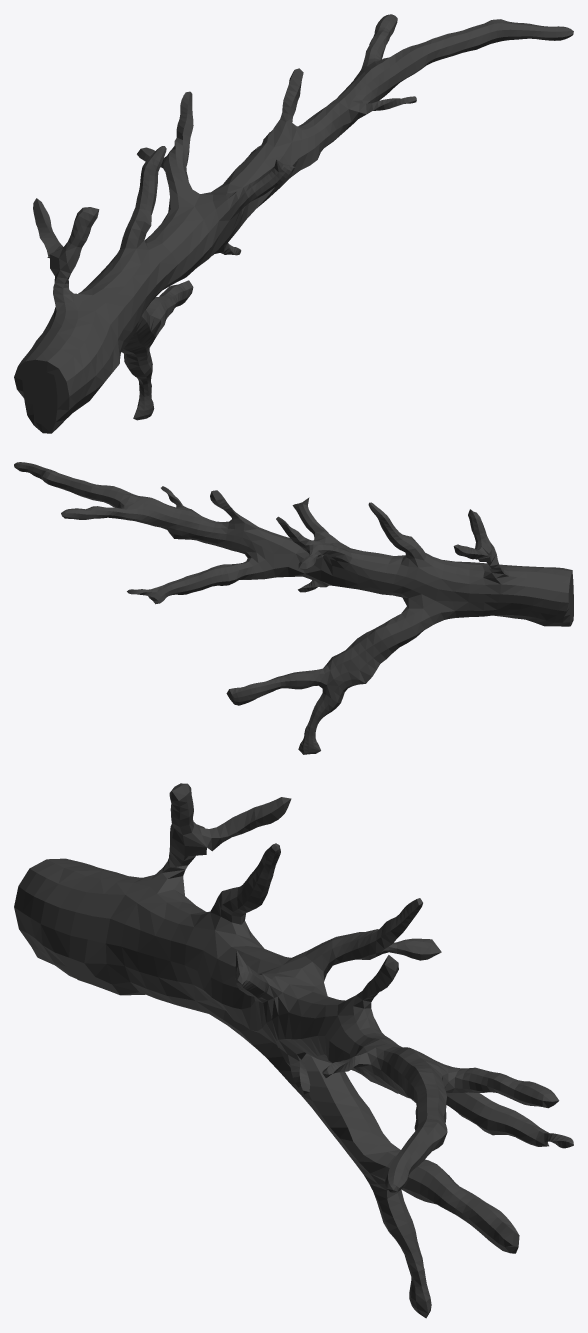
Rendered from Right_caudal_lobe_bronchus.glb.
The picture shows the model from 3 angles, top to bottom: view 1: azimuth 30°, elevation 25°; view 2: azimuth 150°, elevation 25°; view 3: azimuth 270°, elevation 25°; orthographic projection. The views are drawn at different scales.
Parts seen in each view (by area): view 1: Right_caudal_lobe_bronchus; view 2: Right_caudal_lobe_bronchus; view 3: Right_caudal_lobe_bronchus.
Boxes of the visible parts, x1,y1,x2,y2 form: Right_caudal_lobe_bronchus: [14, 14, 573, 433]; Right_caudal_lobe_bronchus: [14, 462, 573, 754]; Right_caudal_lobe_bronchus: [14, 783, 573, 1318].
Size of the model in its own units: 5.57 by 2.61 by 2.91.
1 material, 1 textured.
